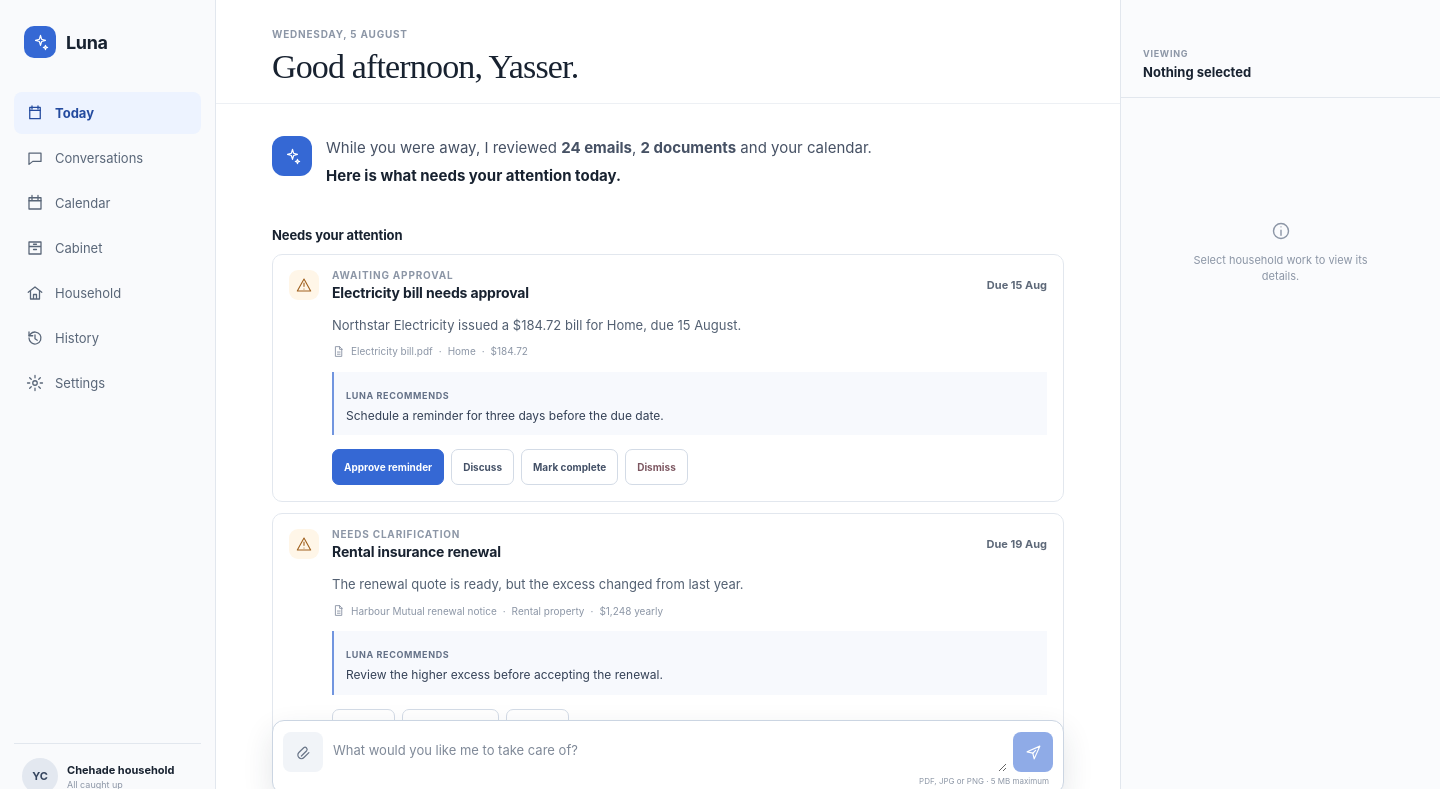
production Today route › submits with the send button and restores focus after Luna responds
Type "Keep watching for the receipt" into the text box named "Instruction for Luna". click: [668, 751]
box: [329, 730, 1007, 772]
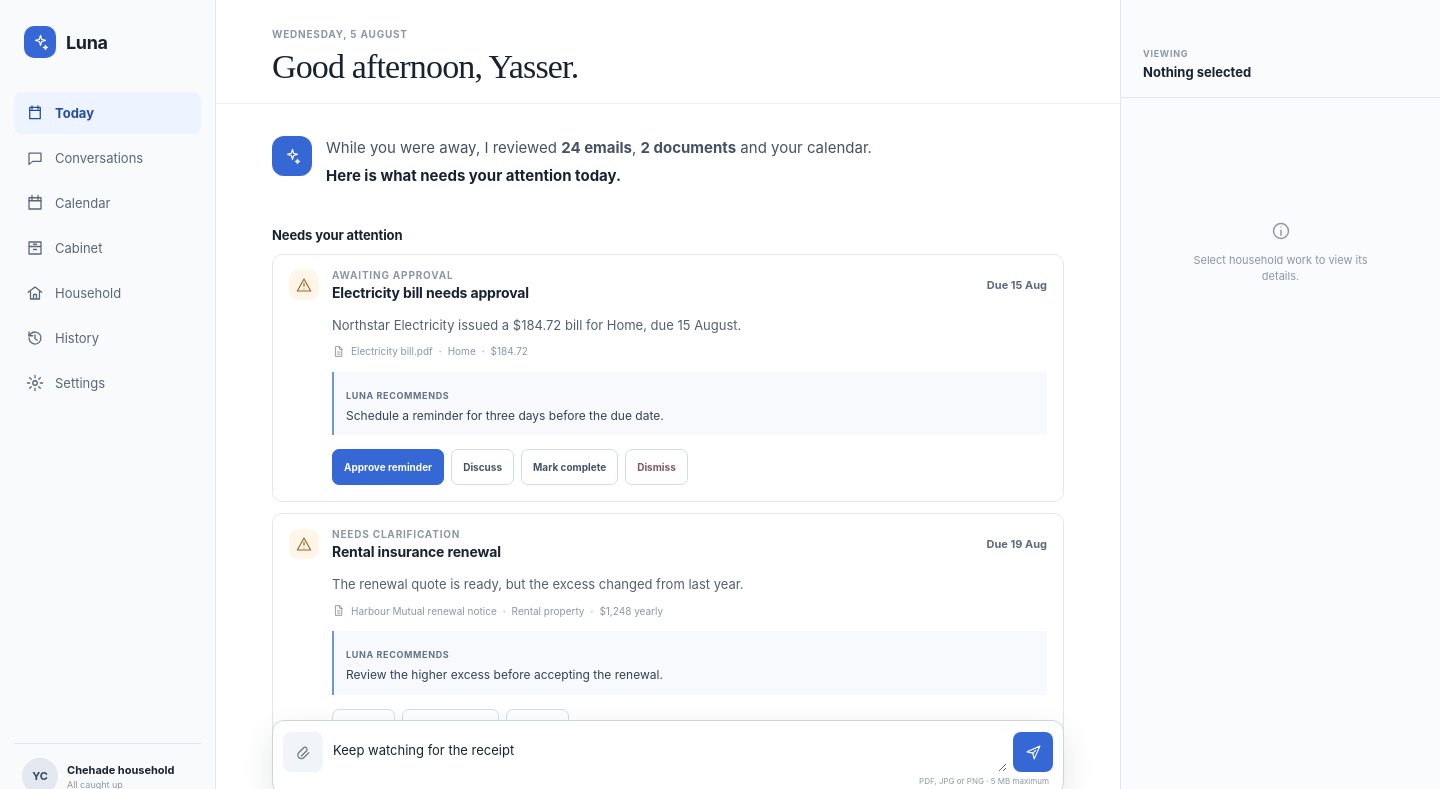
Click the button named "Send instruction". click: [1033, 752]
box: [1013, 732, 1053, 772]
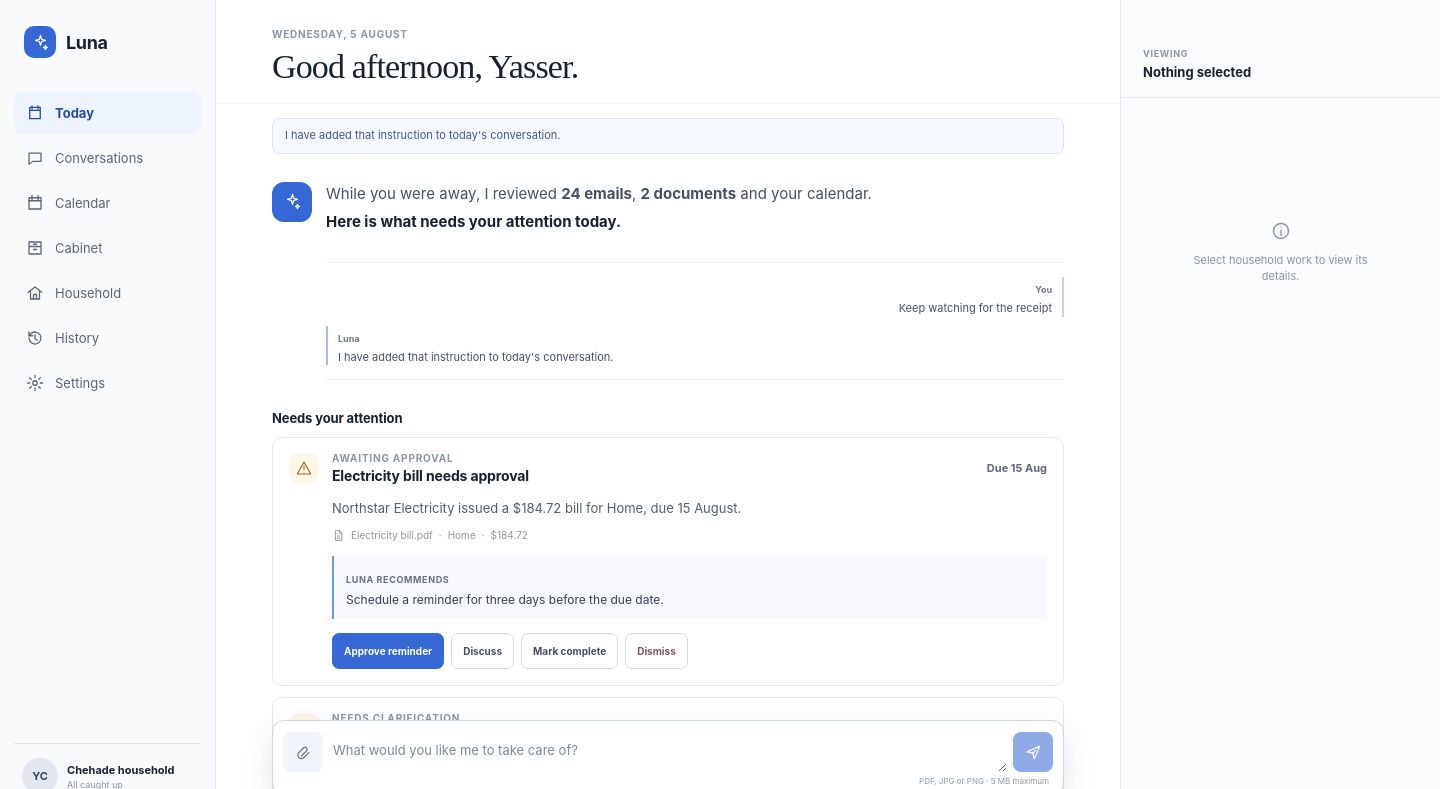
Expected: the text "Keep watching for the receipt" is shown, [899, 300, 1052, 317]
Expected: the text "I have added that instruction to today's conversation." is shown, [272, 118, 1064, 154]
Expected: the text box named "Instruction for Luna" is empty, [329, 730, 1007, 772]
